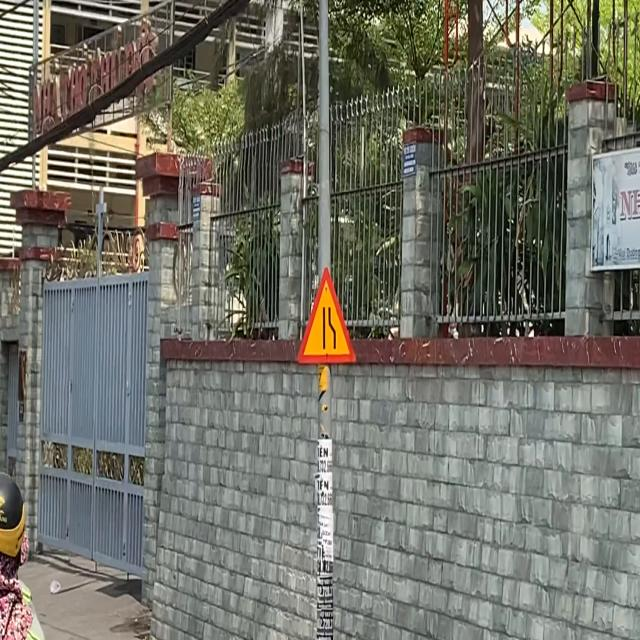Nguy hiem: (296, 266, 357, 366)
